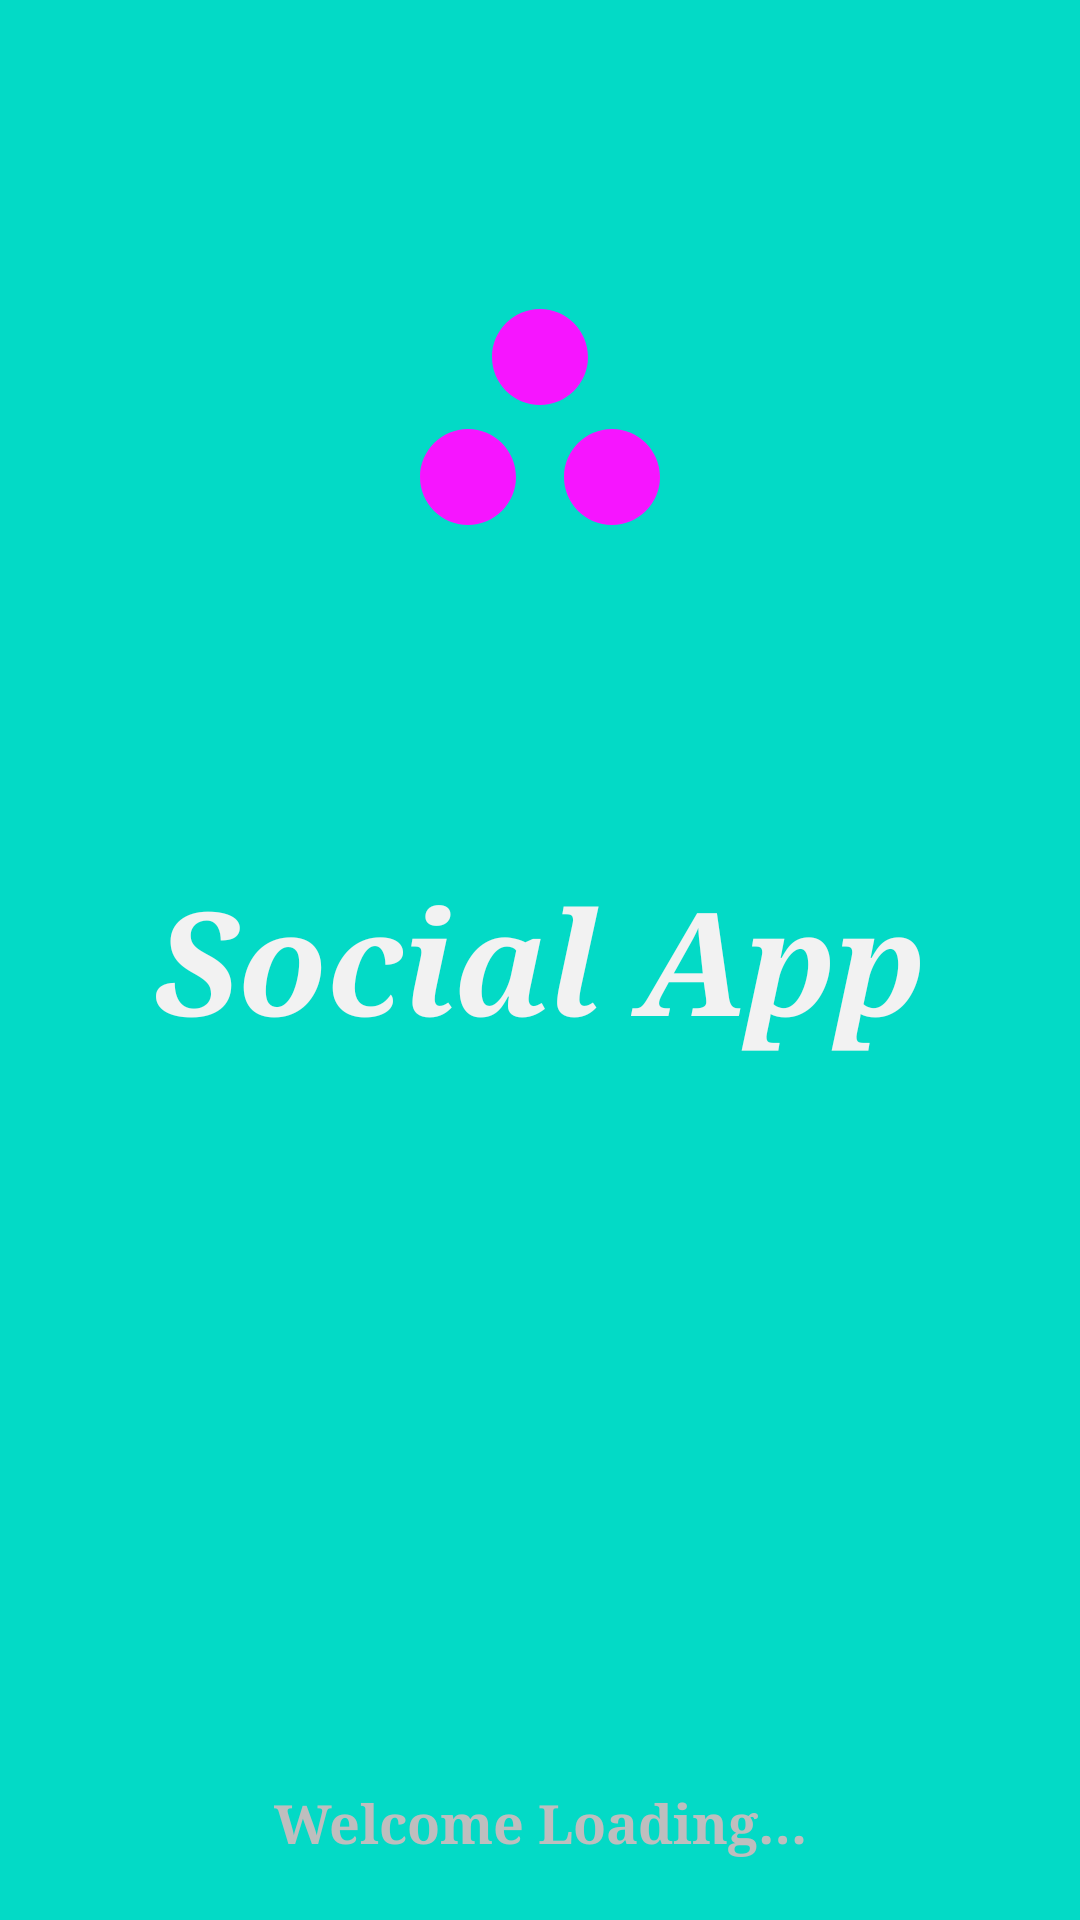

Named icons in this screenshot (1080w x 1920h) and their bounding boxes, (x1, y1, x2, y2):
3dots: (420, 309, 660, 525)
